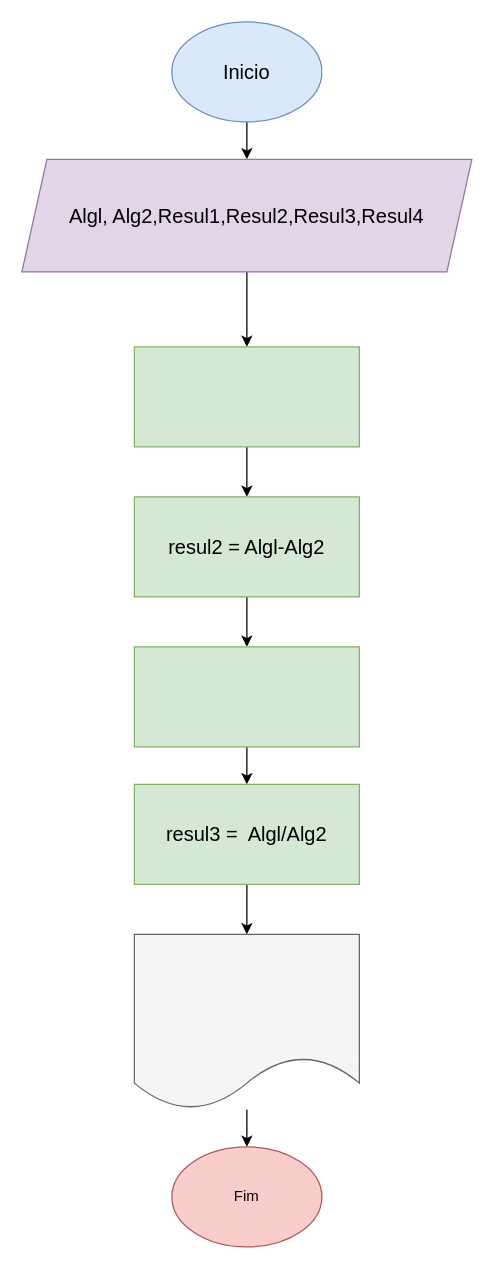
Image size: 494x1269. Some labels were removed from this diagram. Here are the shapes that lost their labels. From the top down, the centre of each, then its label:
(x=246, y=396): resul1 = Algl+Alg2
(x=246, y=696): resul3 = Algl*Alg2
(x=246, y=1021): Soma=resul1 Subtração=resul2 Multiplicação=resul3 Divisão=resul4
